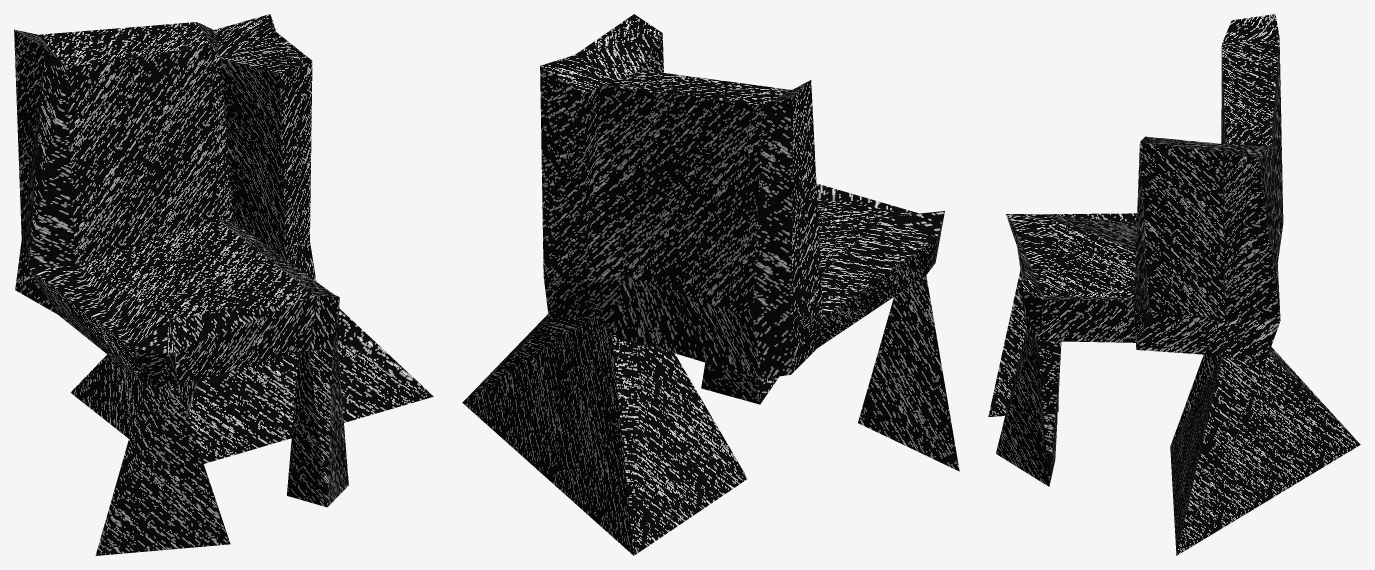
File: chair.fbx
The picture shows the model from 3 angles, left to right: view 1: azimuth 30°, elevation 25°; view 2: azimuth 150°, elevation 25°; view 3: azimuth 270°, elevation 25°; orthographic projection. The views are drawn at different scales.
Parts seen in each view (by area): view 1: Chair; view 2: Chair; view 3: Chair.
Boxes of the visible parts, left/top/right/bottom form: Chair: left=14, top=14, right=433, bottom=555; Chair: left=462, top=14, right=959, bottom=555; Chair: left=988, top=14, right=1360, bottom=555.
Size of the model in its own units: 122 by 124 by 107.
